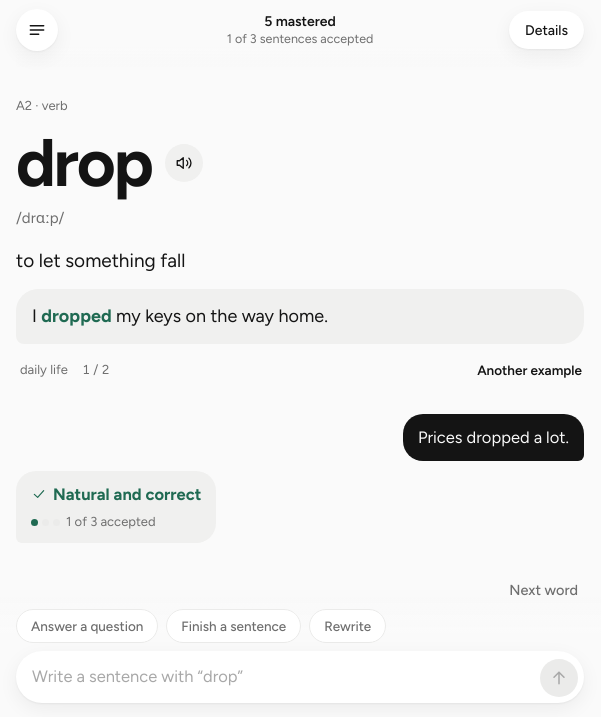
Scenario: Study › does not re-check a sentence that was already accepted
Type "Prices dropped   a lot." into the text box named "Your sentence". click: (283,677)
box: top-left (32, 657), bottom-right (534, 697)
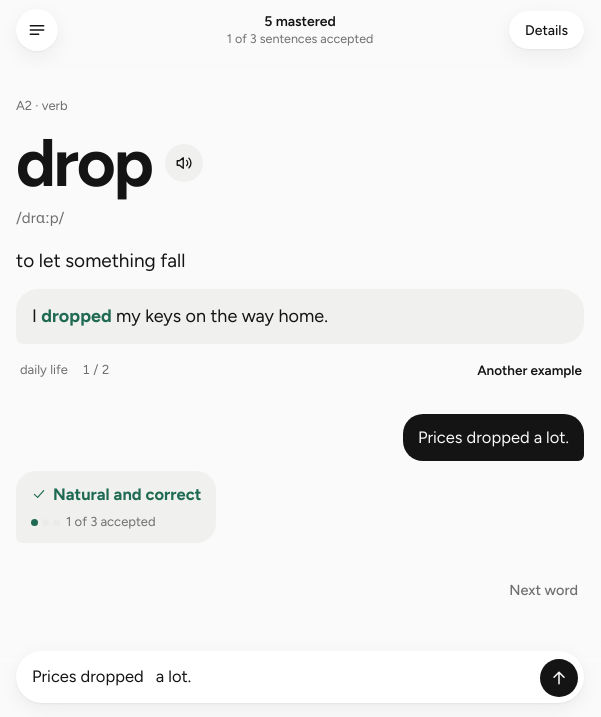
Click the button named "Check my sentence". click: (559,678)
box: top-left (540, 659), bottom-right (578, 697)
(page scrolled)
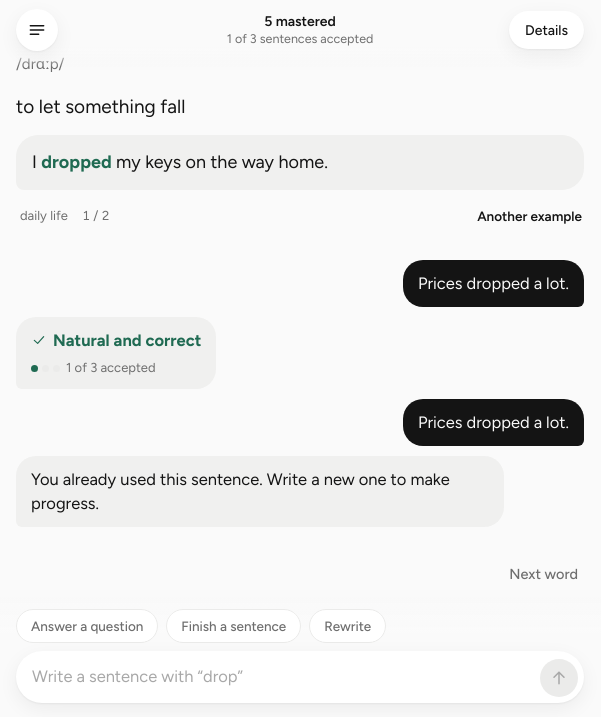
Result: the text "You already used this sentence. Write a new one to make progress." is shown at top-left (31, 466), bottom-right (490, 516)
